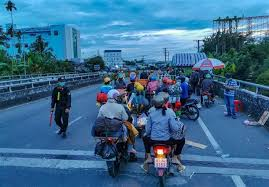Bien-so: (154, 158, 167, 169)
